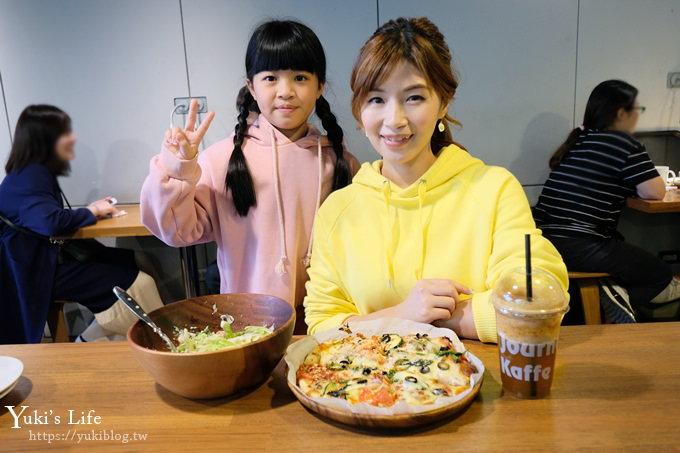cup: (487, 265, 574, 403)
face: (341, 28, 459, 172), (239, 24, 334, 134)
hand: (390, 277, 471, 328), (166, 95, 207, 168)
